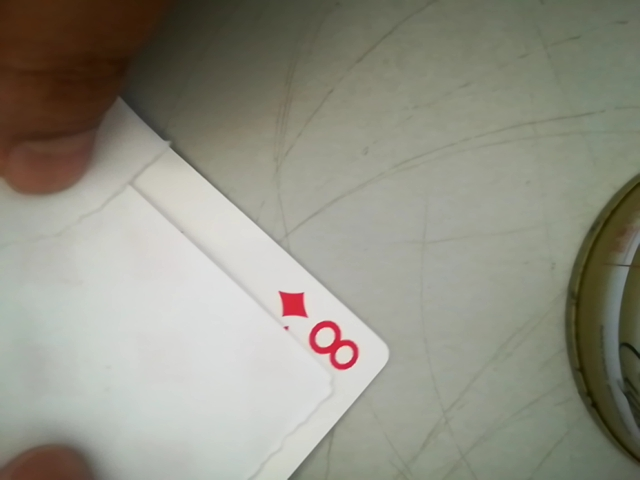fk 8: (270, 285, 369, 377)
